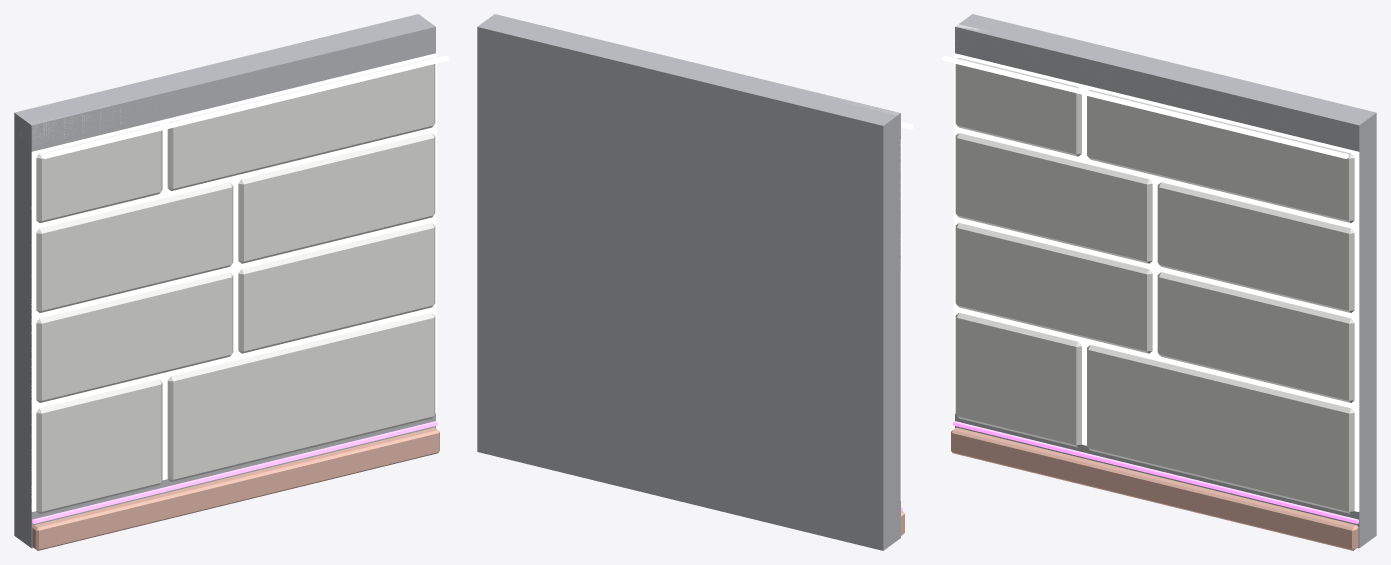
Rendered from wall_porcelain_b.glb.
3 views of the same model, side by side, from view 1: azimuth 30°, elevation 25°; view 2: azimuth 150°, elevation 25°; view 3: azimuth 330°, elevation 25° (orthographic).
Parts seen in each view (by area): view 1: wall_porcelain_b; view 2: wall_porcelain_b; view 3: wall_porcelain_b.
Part boxes in pixels (left/top/right/bottom): wall_porcelain_b: left=14, top=14, right=448, bottom=550; wall_porcelain_b: left=477, top=14, right=913, bottom=550; wall_porcelain_b: left=942, top=14, right=1376, bottom=550.
Bounding box in the file's own units: 4 × 4 × 0.52.
